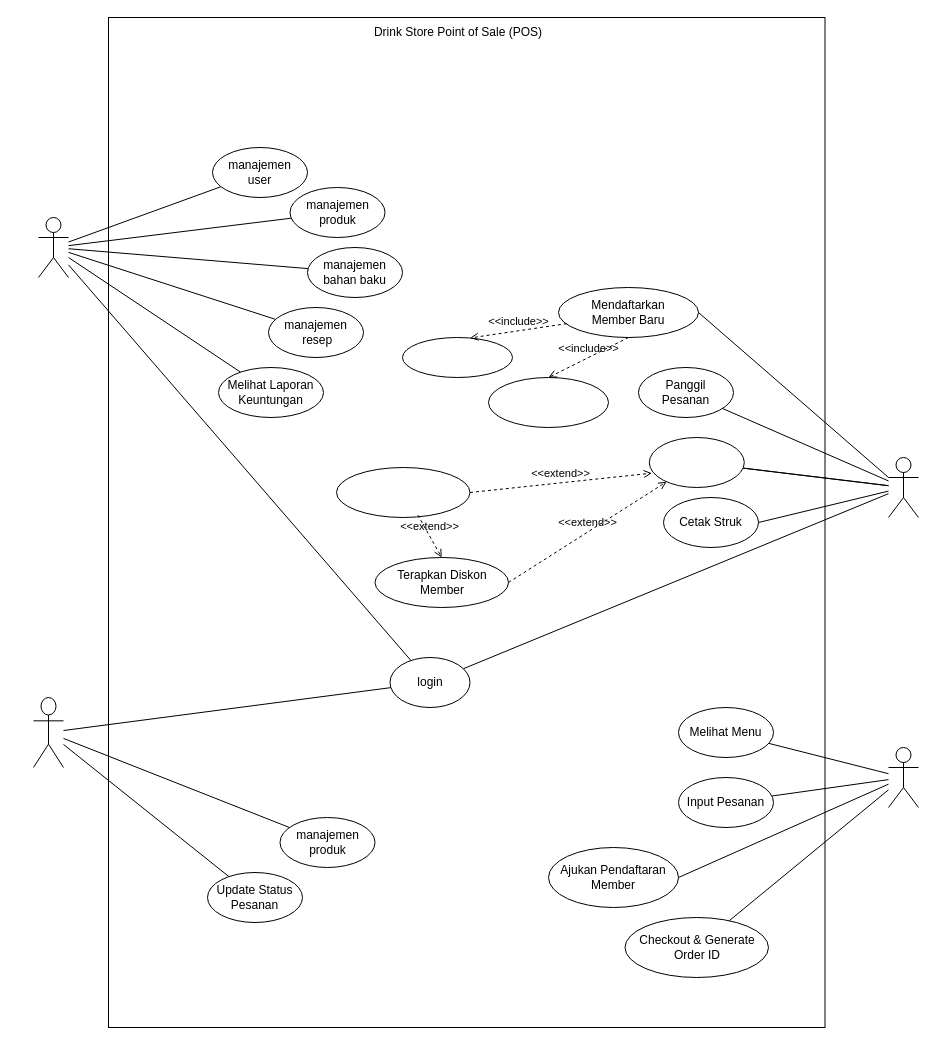
Image size: 949x1045. Some labels were removed from this diagram. Each missing label, with the centre of its shape:
"Admin/Owner" belongs at [53,247].
"Barista" belongs at [48,732].
"Cetak Kartu Member" belongs at [548,402].
"Input Data Pelanggan" belongs at [457,357].
"Kasir" belongs at [903,487].
"Pelanggan" belongs at [903,777].
"Proses Pembayaran" belongs at [696,462].
"Verifikasi Status Member" belongs at [403,492].
